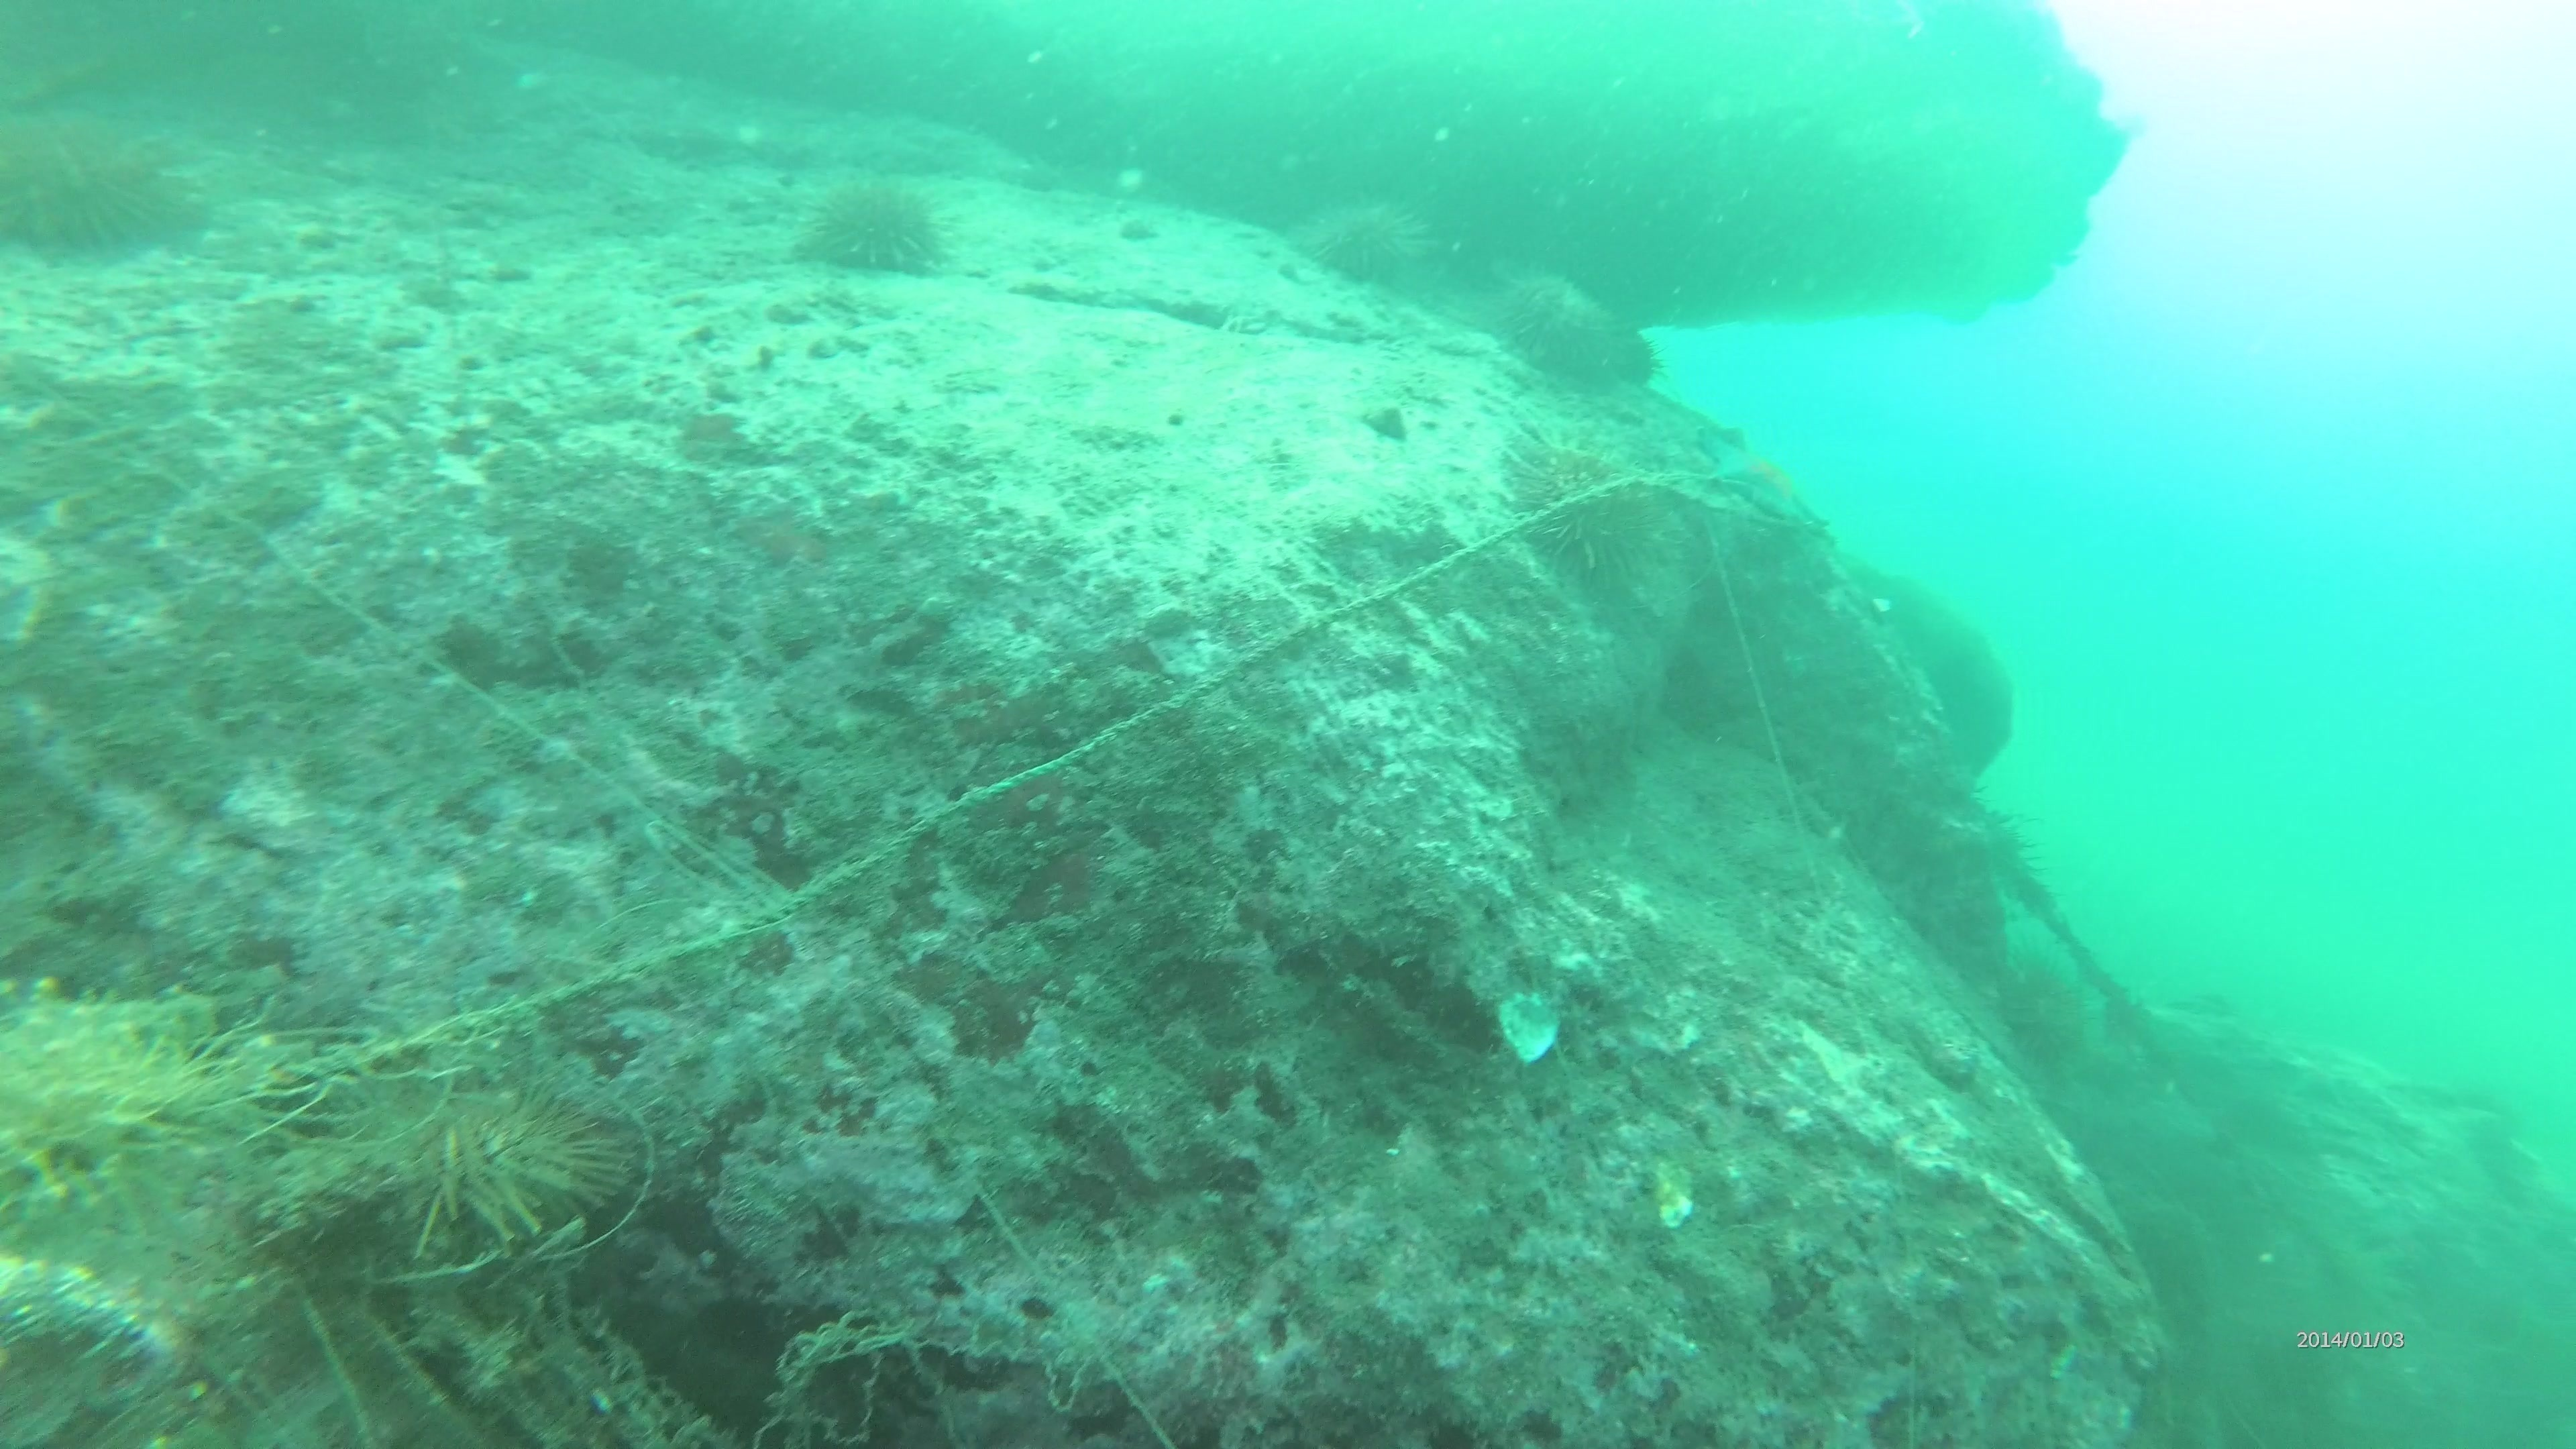echinus: (322, 1063, 623, 1265), (2, 94, 198, 264), (1499, 425, 1667, 594), (1481, 260, 1642, 389), (789, 168, 957, 287), (1297, 189, 1442, 294)
starfish: (1697, 421, 1835, 538)
